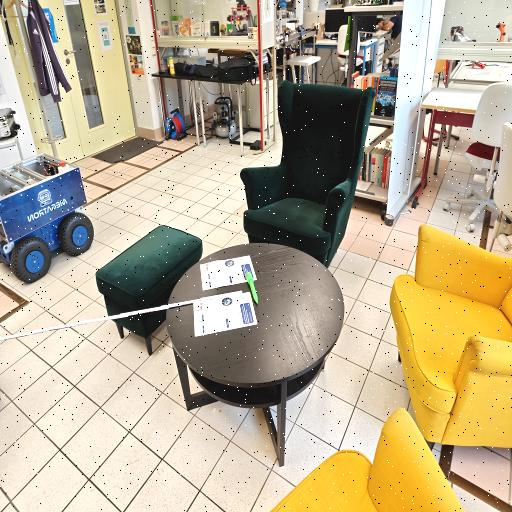Probe-Detection: (246, 272, 258, 304)
